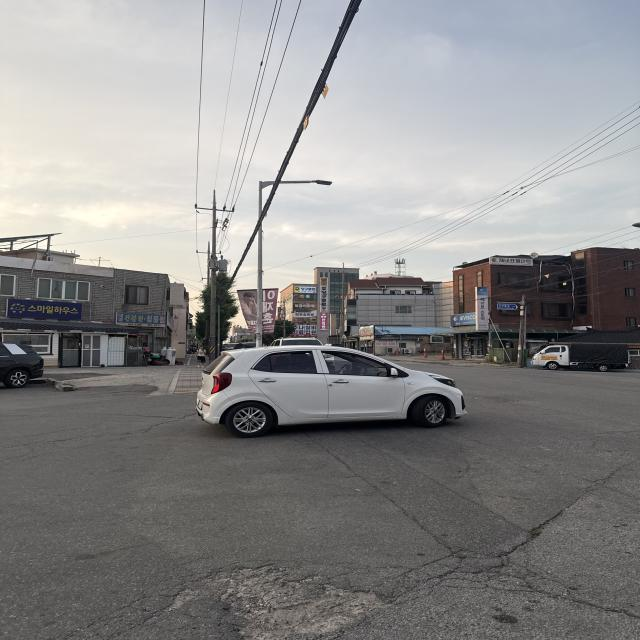car: (197, 341, 454, 437), (517, 336, 639, 374), (0, 339, 50, 392), (266, 330, 328, 352)
